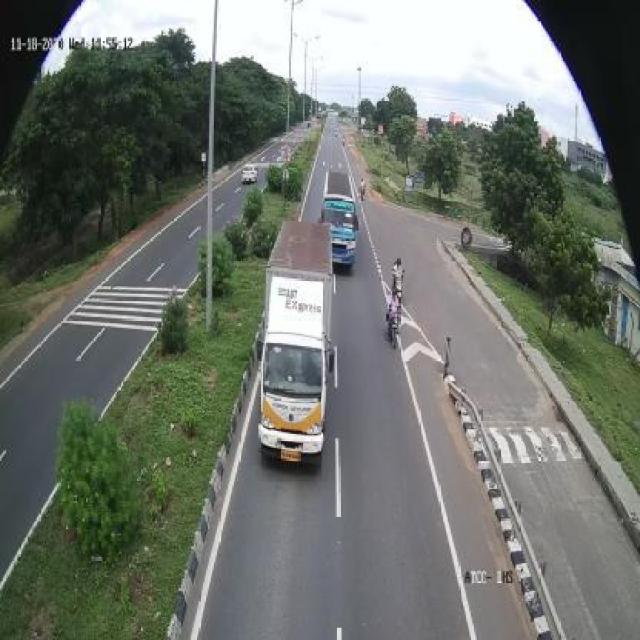car: (237, 159, 260, 186)
